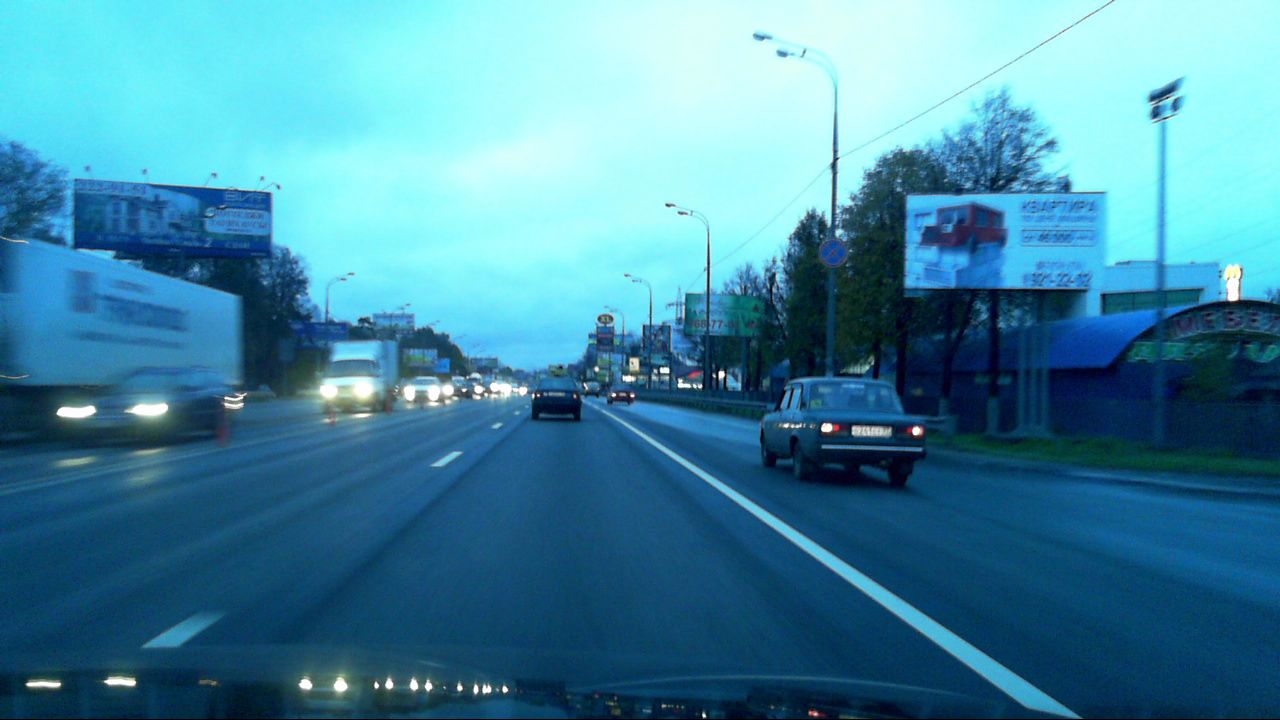No Parking: (818, 239, 847, 268)
